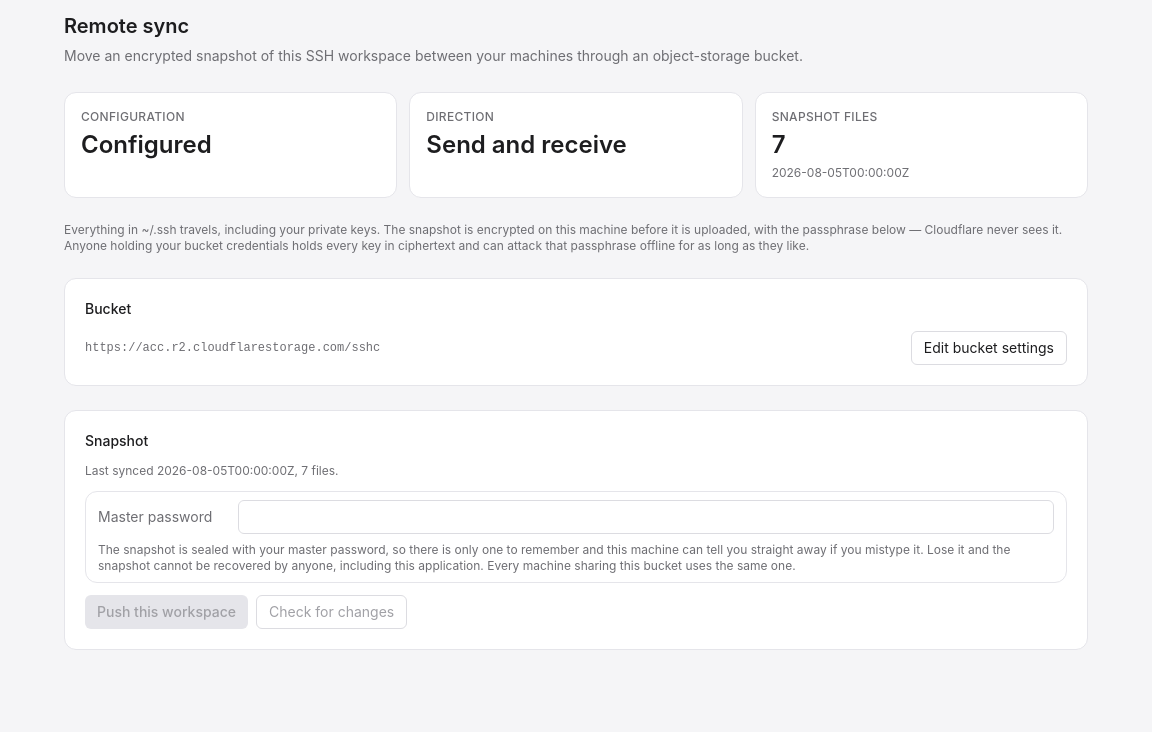
Test: SyncPanel › keeps configured credentials collapsed until they need editing
Expected: the text "https://acc.r2.cloudflarestorage.com/sshc" is shown, [85,340,380,356]
Expected: the field labelled "Secret access key" is not shown
Click the button "Edit bucket settings": coordinates (989, 348) [911,331,1067,365]
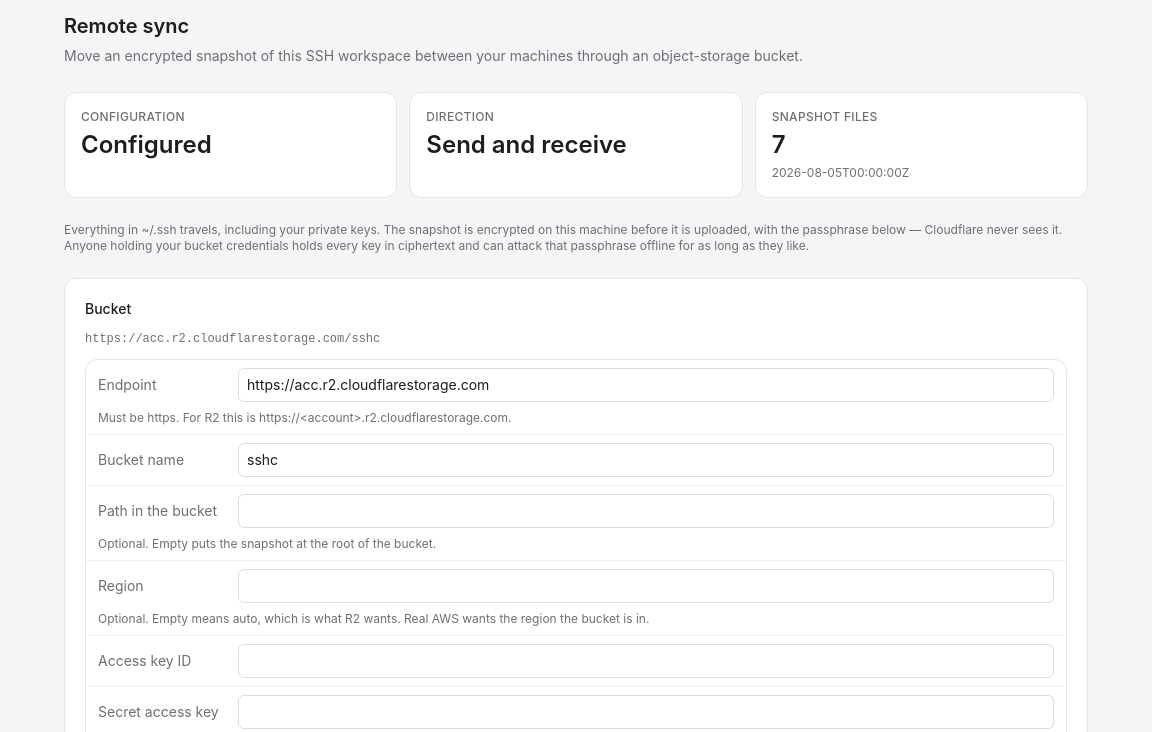
Expected: the password field labelled "Secret access key" is empty, [238,695,1054,729]
Expected: the field labelled "Endpoint" holds "https://acc.r2.cloudflarestorage.com", [238,368,1054,402]
Expected: the field labelled "Bucket name" holds "sshc", [238,443,1054,477]
